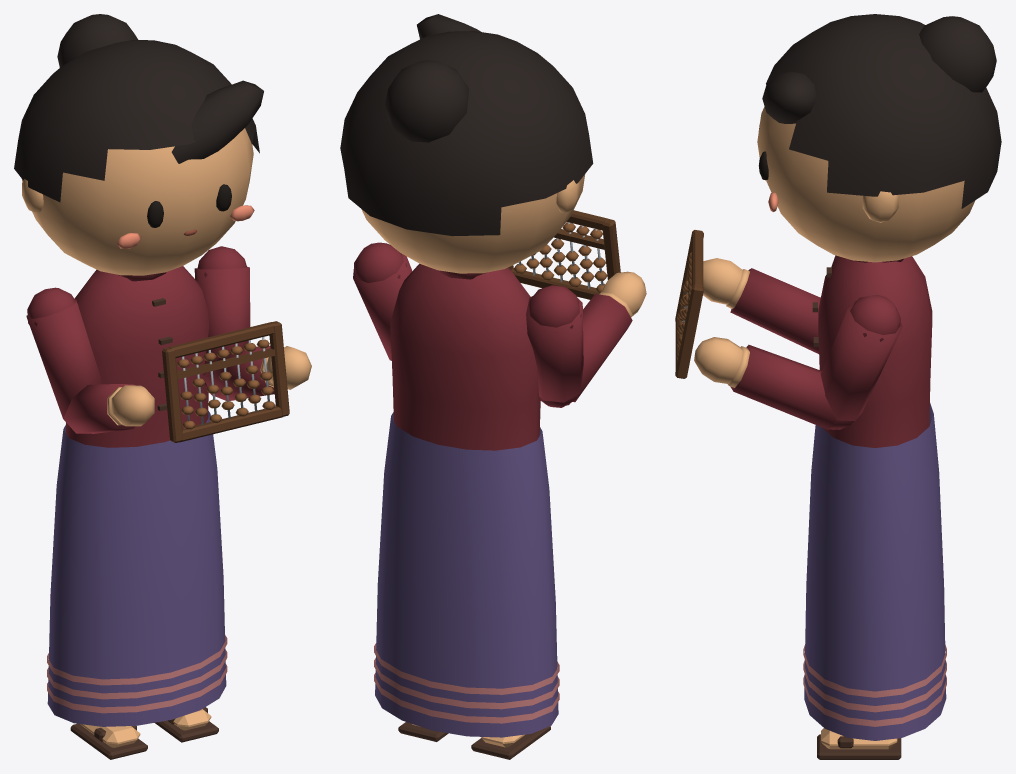
Rendered from era2_abacus_woman.glb.
3 views of the same model, side by side, from view 1: azimuth 30°, elevation 25°; view 2: azimuth 150°, elevation 25°; view 3: azimuth 270°, elevation 25° (orthographic). The views are drawn at different scales.
Visible parts, largest first — view 1: body, head, prop_abacus, arm_R, arm_L, forearm_R, forearm_L, shin_R, shin_L; view 2: body, head, arm_R, prop_abacus, forearm_R, arm_L, shin_R, shin_L; view 3: body, head, forearm_L, arm_L, forearm_R, prop_abacus, shin_L.
Boxes of the visible parts, x1,y1,x2,y2 form: body: (47,266,227,726); head: (14,14,263,275); prop_abacus: (162,321,289,442); arm_R: (26,287,102,425); arm_L: (194,246,250,395); forearm_R: (63,384,154,433); forearm_L: (203,345,311,400); shin_R: (70,723,147,759); shin_L: (154,707,218,742); body: (374,263,559,737); head: (340,14,593,273); arm_R: (526,285,583,407); prop_abacus: (508,210,620,299); forearm_R: (540,271,646,407); arm_L: (353,242,412,360); shin_R: (471,726,550,759); shin_L: (398,722,448,741); body: (803,256,946,740); head: (757,14,1001,262); forearm_L: (694,337,853,429); arm_L: (820,294,902,429); forearm_R: (703,258,820,353); prop_abacus: (675,230,703,378); shin_L: (817,728,901,759).
Bounding box in the file's own units: 0.4932 × 1.47 × 0.6099.
